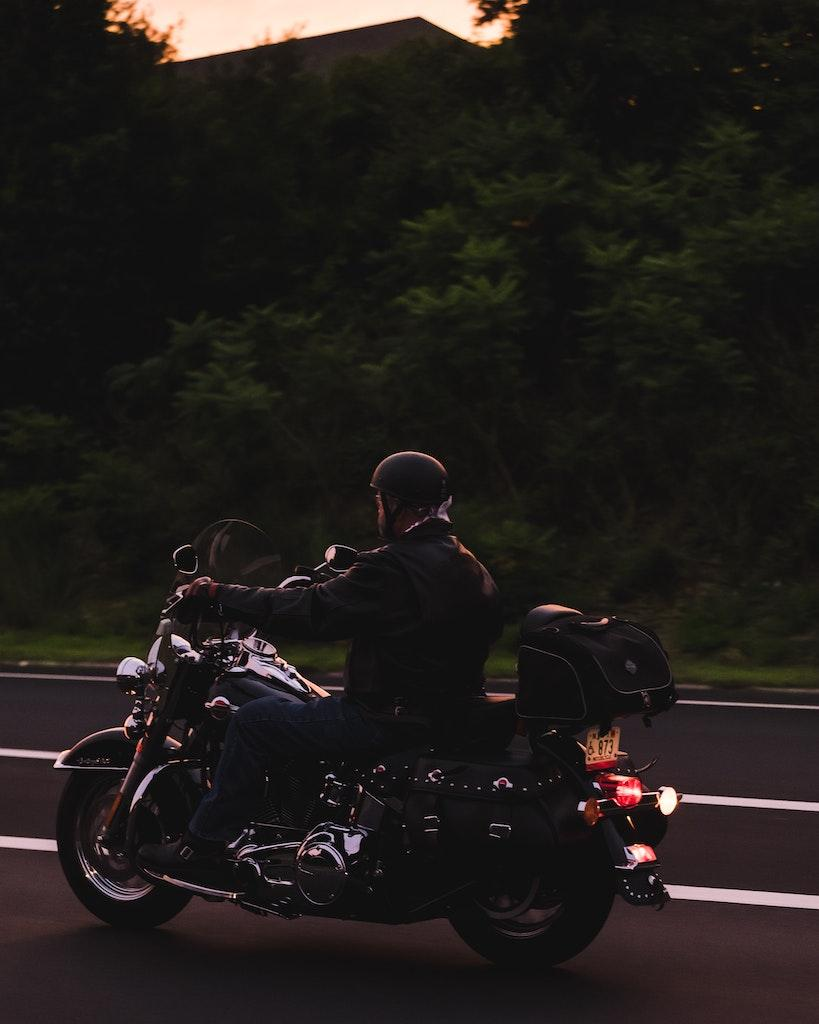helmet: (369, 449, 455, 543)
